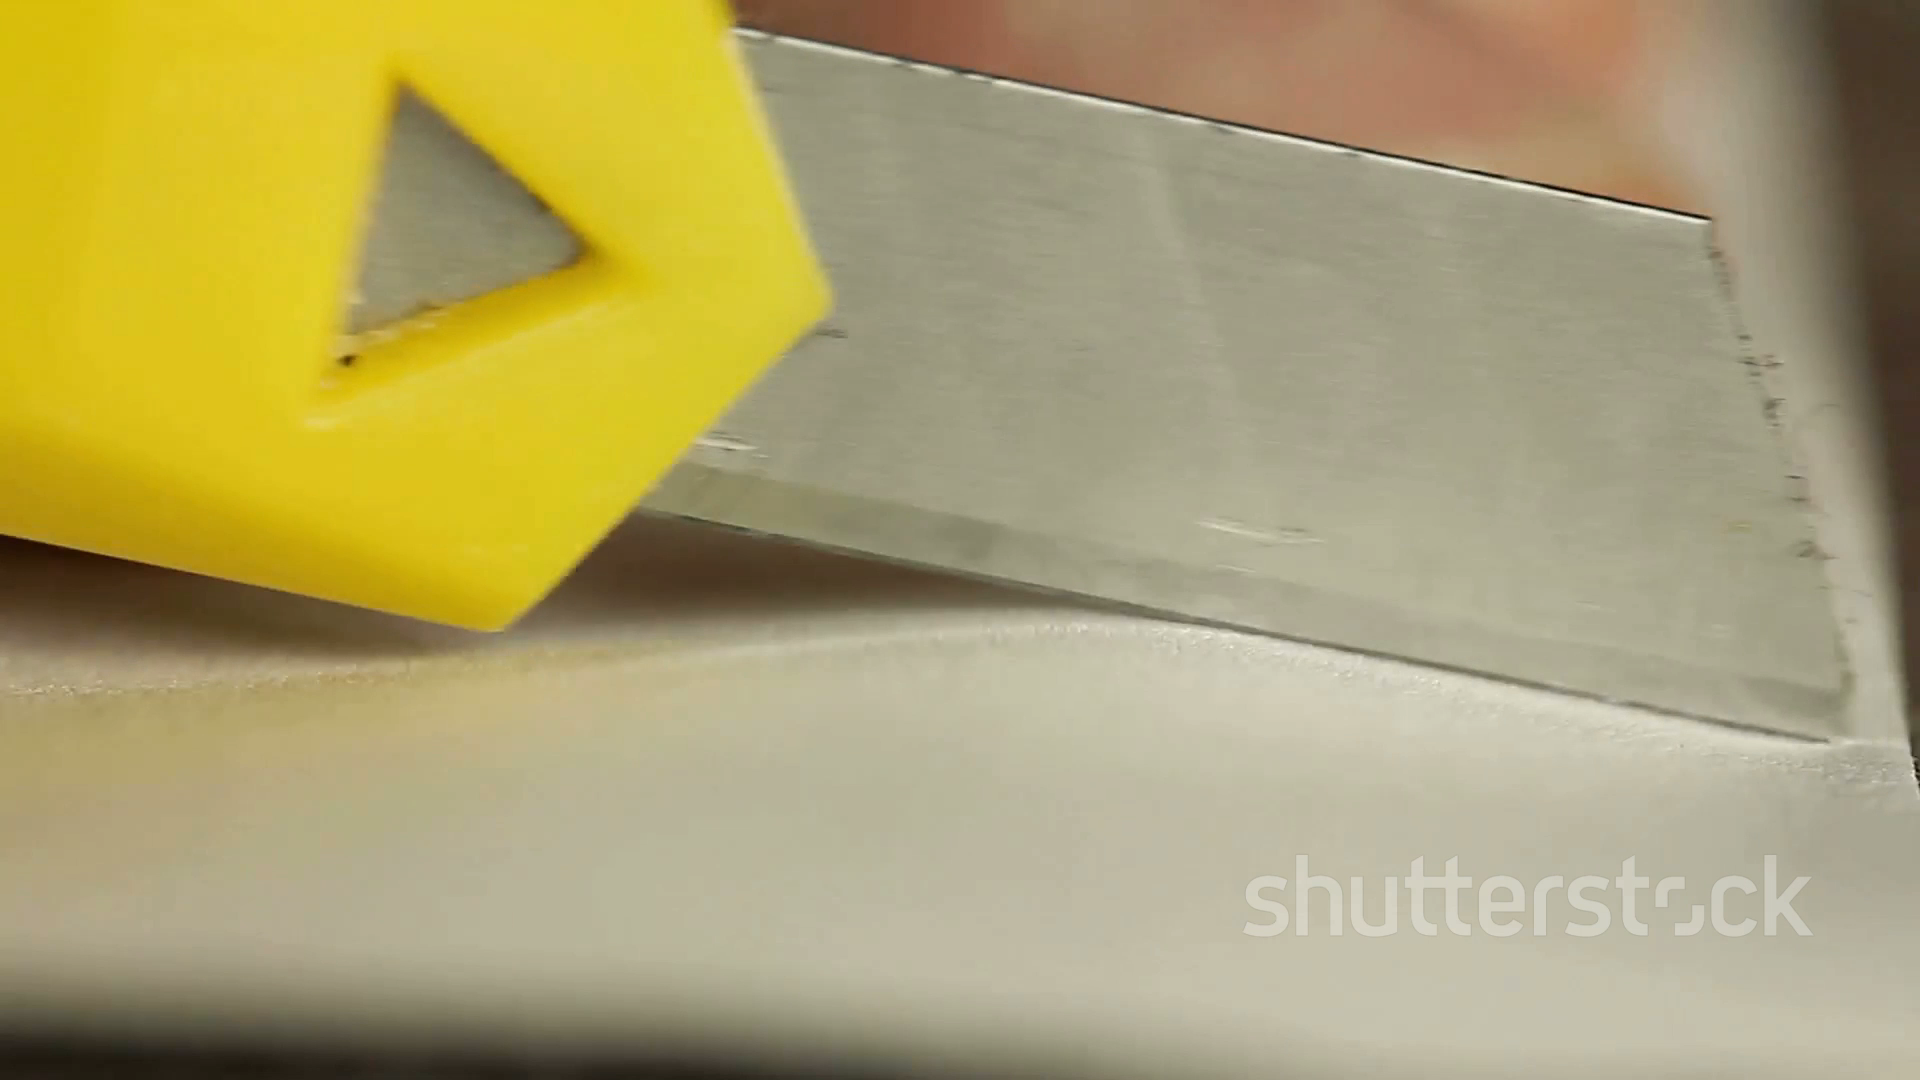cortante: (638, 25, 1842, 745)
